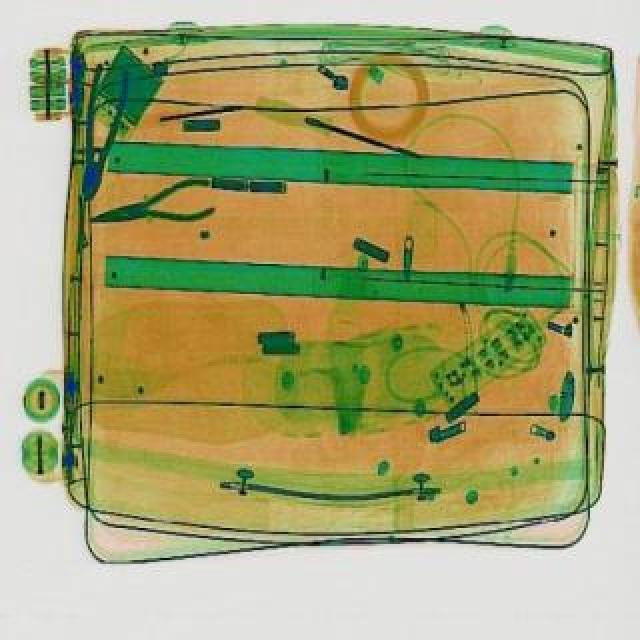wrench: (88, 180, 220, 244), (74, 66, 134, 204)
